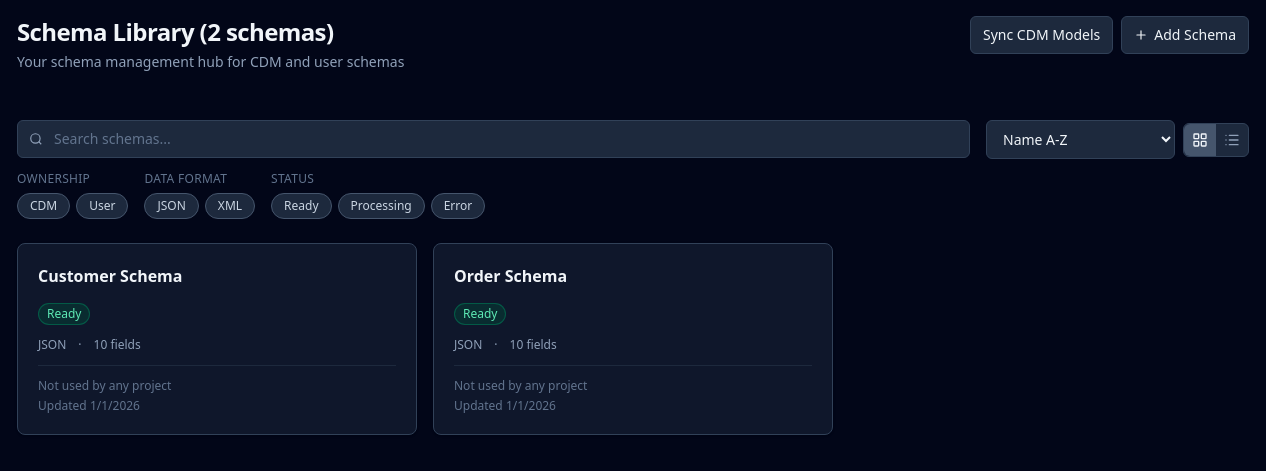
Scenario: SchemaLibraryPage › typing in search filters displayed cards
The image size is (1266, 471).
Expected: the number of elements with test id "schema-library-card" is 2, [17, 243, 417, 435]; [433, 243, 833, 435]
In the search field: (494, 139) [17, 120, 970, 158], type "Customer"
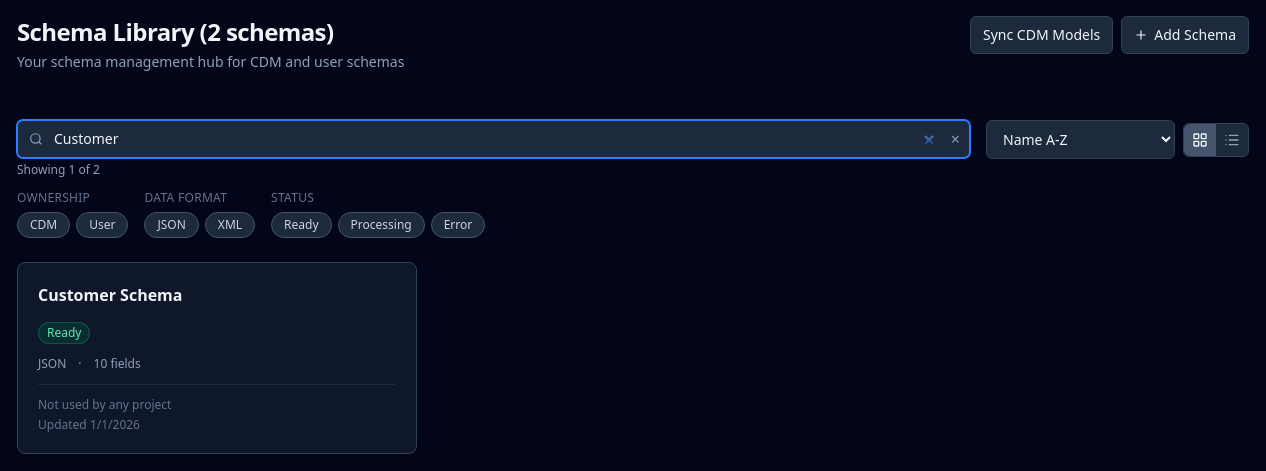
Expected: the heading "Customer Schema" is shown, [38, 283, 182, 307]
Expected: the number of elements with test id "schema-library-card" is 1, [17, 262, 417, 454]
